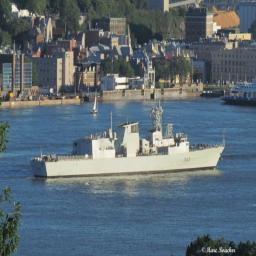Fragata: (32, 83, 229, 182)
